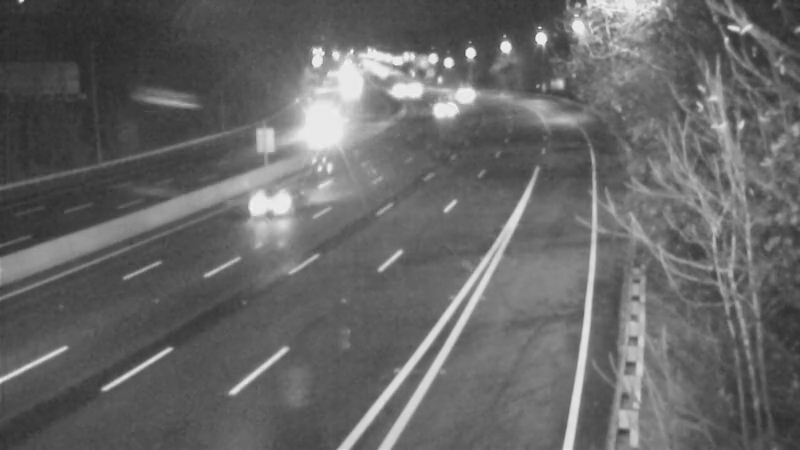vehicle: (227, 166, 307, 246), (388, 65, 438, 115), (370, 66, 420, 116), (437, 67, 487, 117), (419, 84, 469, 134), (288, 113, 338, 163)
